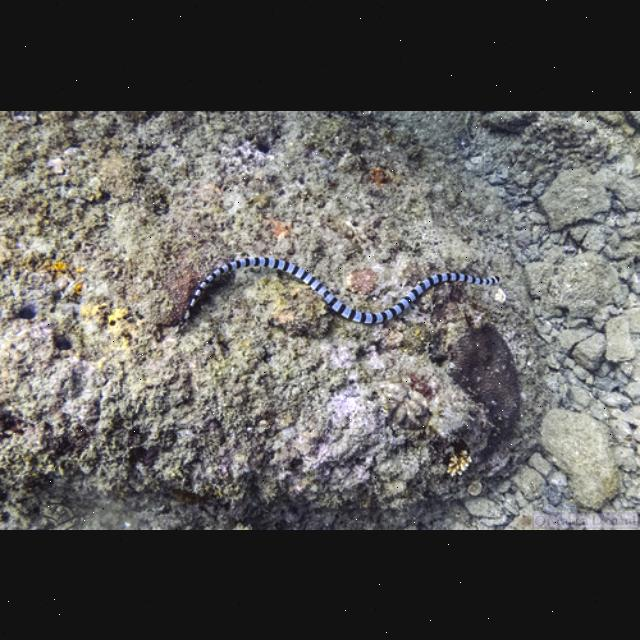snake: (168, 242, 516, 338)
